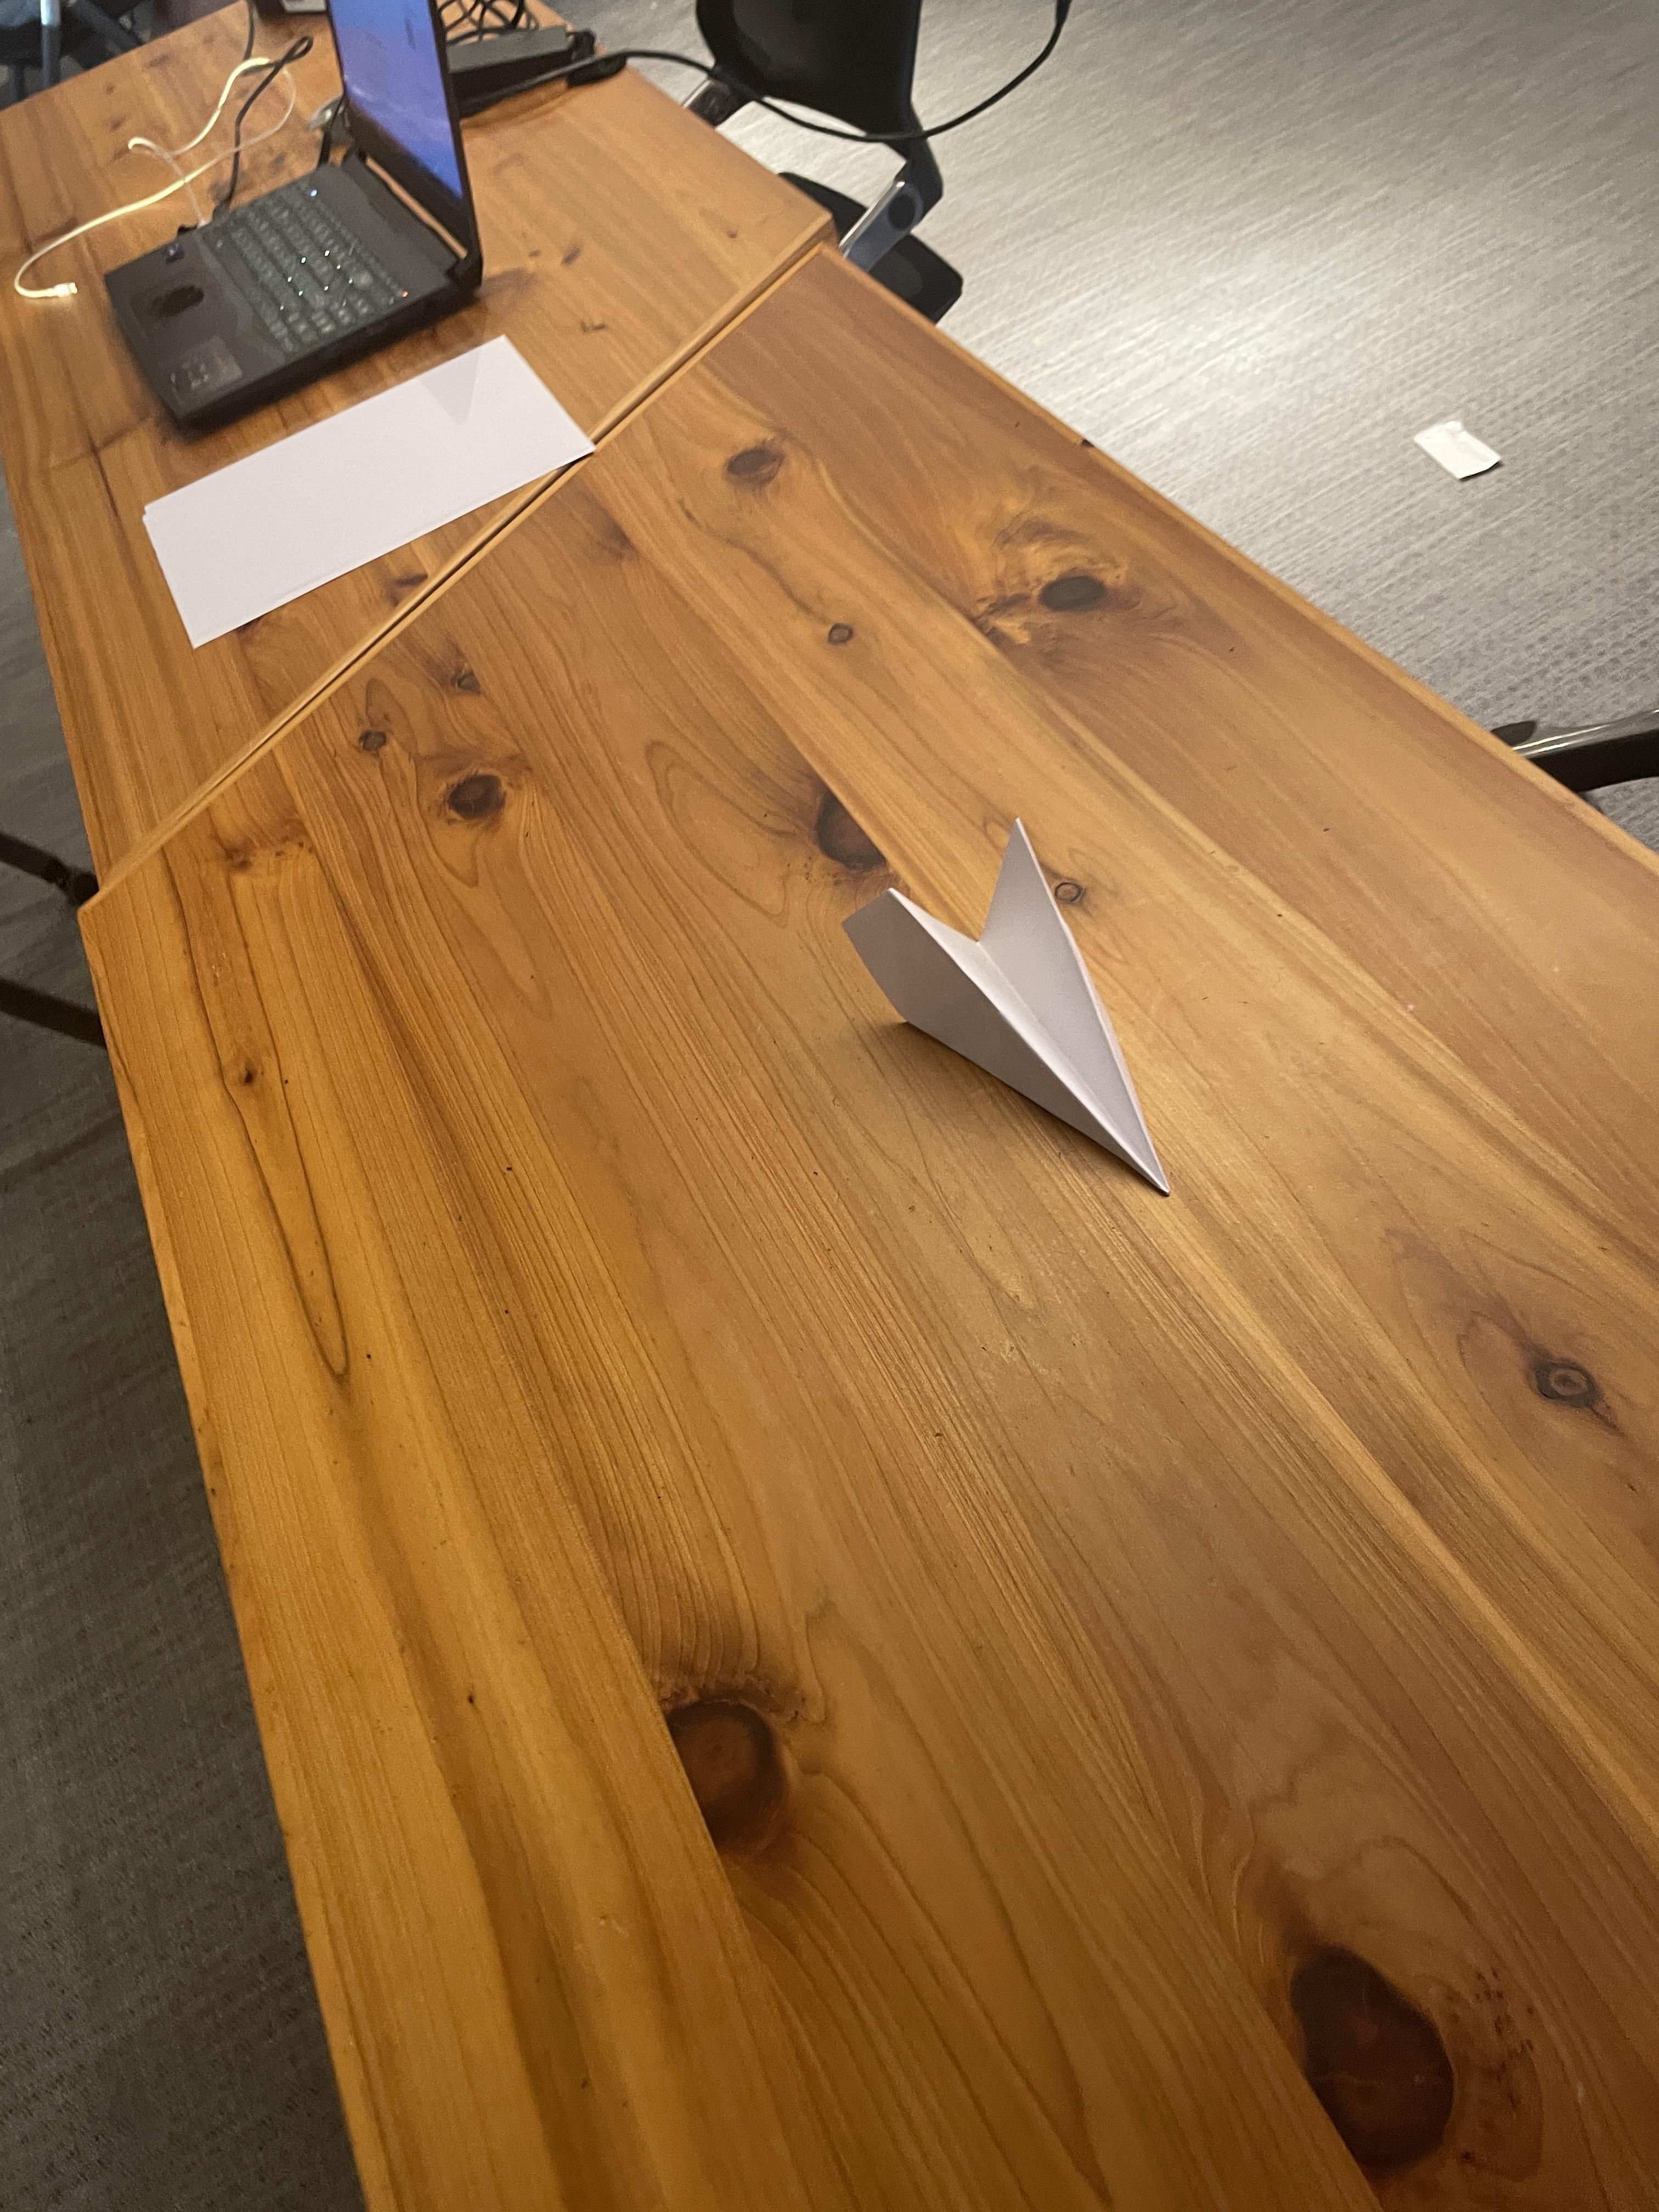shape_3: (763, 786, 1237, 1258)
